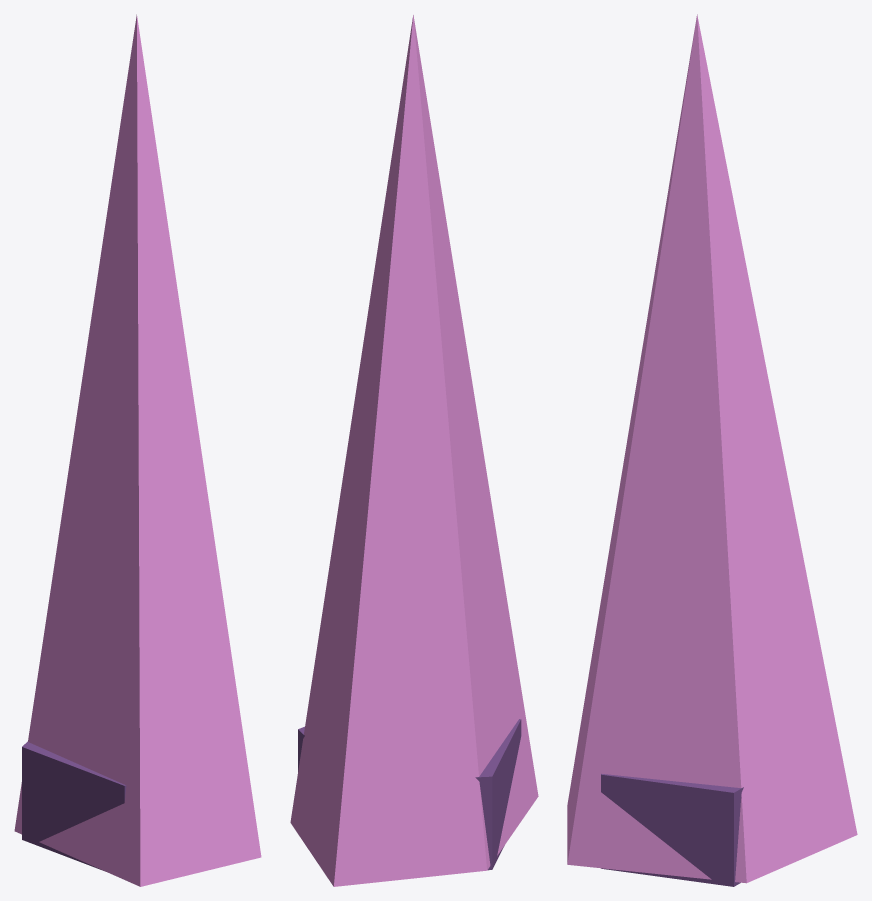
The model's file is hostile_shard_01.glb.
3 views of the same model, side by side, from view 1: azimuth 30°, elevation 25°; view 2: azimuth 150°, elevation 25°; view 3: azimuth 270°, elevation 25° (orthographic).
Visible parts, largest first — view 1: hostile_shard_01; view 2: hostile_shard_01; view 3: hostile_shard_01.
Boxes of the visible parts, x1,y1,x2,y2 form: hostile_shard_01: (14, 14, 261, 886); hostile_shard_01: (290, 15, 538, 886); hostile_shard_01: (567, 14, 857, 886).
Size of the model in its own units: 0.1213 by 0.4825 by 0.1538.
